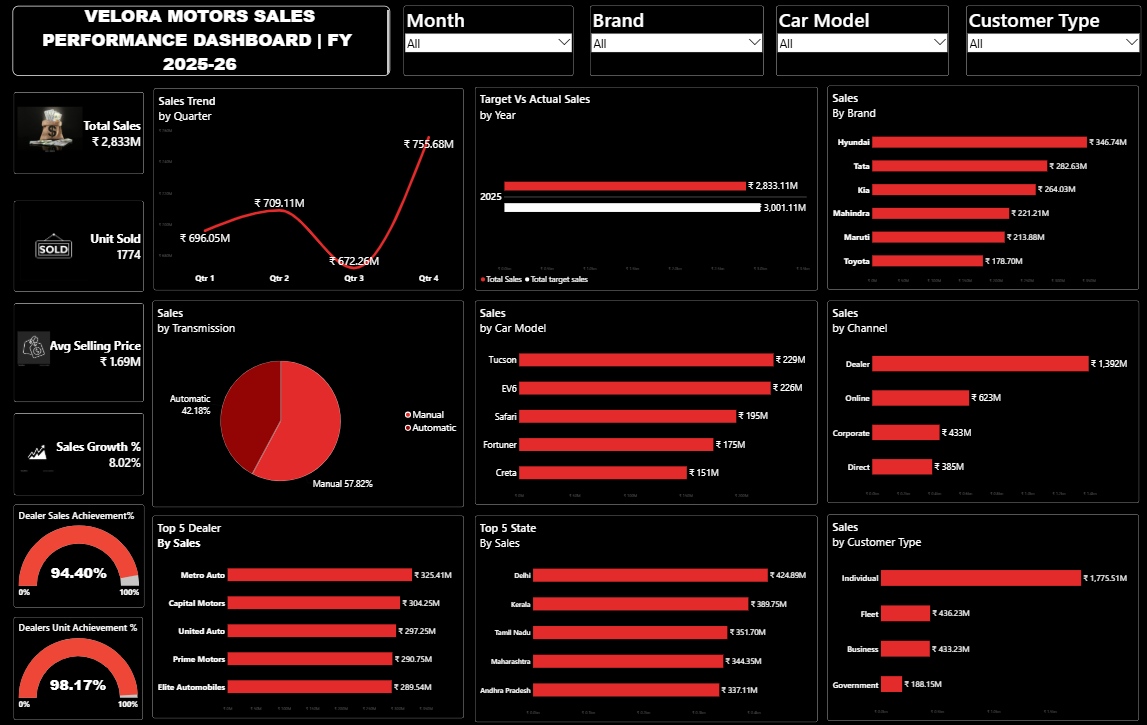

This screenshot's page, from the dashboard's own definition file:
{"tool":"powerbi","page":{"name":"Page 1","canvas":[4000,2580],"ordinal":0},"visuals":[{"type":"textbox","box":[61.5,29,1306.6,242.5],"z":0},{"type":"slicer","fields":{"Values":["Sales_Data.Brand"]},"box":[2059.4,29,600.8,242.5],"z":1000},{"type":"slicer","fields":{"Values":["Sales_Data.Car Model"]},"box":[2703.6,29,597.2,242.5],"z":2000},{"type":"cardVisual","fields":{"Data":["Sales_Data.Total Sales"]},"box":[63.1,329.1,450.9,284],"z":2500,"group":"g2"},{"type":"cardVisual","fields":{"Data":["Sales_Data.Unit Sold"]},"box":[63.1,703.3,450.9,315.6],"z":2500,"group":"g1"},{"type":"cardVisual","fields":{"Data":["Sales_Data.Avg Selling price"]},"box":[63.1,1059.5,450.9,342.7],"z":2500,"group":"g3"},{"type":"cardVisual","fields":{"Data":["Sales_Data.Sales Growth %"]},"box":[63.1,1438.3,450.9,284],"z":2500,"group":"g4"},{"type":"slicer","fields":{"Values":["Sales_Data.Customer Type"]},"box":[3358.7,29,604.4,242.5],"z":3000},{"type":"group","id":"g1","title":"Group 1","box":[63.1,703.3,450.9,315.6],"z":4000},{"type":"group","id":"g2","title":"Group 2","box":[63.1,315.6,450.9,297.6],"z":5000},{"type":"image","box":[84.2,719.1,233.4,285.3],"z":6000,"group":"g1"},{"type":"group","id":"g3","title":"Group 2","box":[63.1,1059.5,450.9,342.7],"z":6000},{"type":"image","box":[75.5,315.6,224.8,285.3],"z":6502,"group":"g2"},{"type":"image","box":[75.5,1152.3,112.4,134],"z":6502,"group":"g3"},{"type":"group","id":"g4","title":"Group 2","box":[63.1,1438.3,450.9,284],"z":7000},{"type":"slicer","fields":{"Values":["Calendar.Date.Variation.Date Hierarchy.Month"]},"box":[1415.2,29,586.3,242.5],"z":8000},{"type":"clusteredBarChart","title":" Sales","fields":{"Category":["Sales_Data.Customer Type"],"Y":["Sales_Data.Total Sales"]},"box":[2879.2,1789.8,1076.4,713.3],"z":9000},{"type":"clusteredBarChart","title":" Sales","fields":{"Category":["Sales_Data.Channel"],"Y":["Sales_Data.Total Sales"]},"box":[2881,1050.5,1077.6,698.8],"z":10000},{"type":"lineChart","title":"Sales Trend","fields":{"Category":["Calendar.Date.Variation.Date Hierarchy.Quarter"],"Y":["Sales_Data.Total Sales"]},"box":[550.1,314.9,1071.3,698.5],"z":11000},{"type":"clusteredBarChart","title":"Top 5 Dealer","fields":{"Category":["Sales_Data.Dealer"],"Y":["Sales_Data.Total Sales"]},"box":[544.7,1794.1,1076.4,700.3],"z":12000},{"type":"clusteredBarChart","title":" Sales","fields":{"Category":["Sales_Data.Car Model"],"Y":["Sales_Data.Total Sales"]},"box":[1660.1,1050.5,1184.5,704.7],"z":13000},{"type":"gauge","fields":{"Y":["Dealer_Target.Dealer Sales Achievement%"]},"box":[63.1,1753.9,450.9,356.2],"z":14000},{"type":"image","box":[86.9,1494.8,119.4,166.5],"z":15000},{"type":"barChart","title":"Top 5 State","fields":{"Category":["Sales_Data.State"],"Y":["Sales_Data.Total Sales"]},"box":[1660.1,1794.1,1184.5,713.3],"z":16000},{"type":"clusteredBarChart","title":"Target Vs Actual Sales","fields":{"Category":["Calendar.Date.Variation.Date Hierarchy.Year","Calendar.Date.Variation.Date Hierarchy.Quarter","Calendar.Date.Variation.Date Hierarchy.Month"],"Y":["Sales_Data.Total Sales","Dealer_Target.Total target sales"]},"box":[1659.2,311.1,1185.8,703.3],"z":17000},{"type":"gauge","fields":{"Y":["Sales_Data.Dealers Unit Achievement %"]},"box":[63.1,2146.1,446.4,356.2],"z":18000},{"type":"pieChart","title":"Sales","fields":{"Category":["Sales_Data.Transmission"],"Y":["Sales_Data.Total Sales"]},"box":[544.7,1050.5,1076.4,713.3],"z":19000},{"type":"clusteredBarChart","title":"Sales","fields":{"Category":["Sales_Data.Brand"],"Y":["Sales_Data.Total Sales"]},"box":[2879.2,306.9,1076.4,704.7],"z":20000}]}

Visuals, with their boxes in screenshot pixels (x1, y1, x2, y2), scaled from the page's 4000x2580 canvas onto the 1147x725 screenshot:
textbox: x1=18, y1=8, x2=392, y2=76
slicer - Sales_Data.Brand: x1=591, y1=8, x2=763, y2=76
slicer - Sales_Data.Car Model: x1=775, y1=8, x2=947, y2=76
cardVisual - Sales_Data.Total Sales: x1=18, y1=92, x2=147, y2=172
cardVisual - Sales_Data.Unit Sold: x1=18, y1=198, x2=147, y2=286
cardVisual - Sales_Data.Avg Selling price: x1=18, y1=298, x2=147, y2=394
cardVisual - Sales_Data.Sales Growth %: x1=18, y1=404, x2=147, y2=484
slicer - Sales_Data.Customer Type: x1=963, y1=8, x2=1136, y2=76
"Group 1" group: x1=18, y1=198, x2=147, y2=286
"Group 2" group: x1=18, y1=89, x2=147, y2=172
image: x1=24, y1=202, x2=91, y2=282
"Group 2" group: x1=18, y1=298, x2=147, y2=394
image: x1=22, y1=89, x2=86, y2=169
image: x1=22, y1=324, x2=54, y2=361
"Group 2" group: x1=18, y1=404, x2=147, y2=484
slicer - Calendar.Date.Variation.Date Hierarchy.Month: x1=406, y1=8, x2=574, y2=76
" Sales" clusteredBarChart: x1=826, y1=503, x2=1134, y2=703
" Sales" clusteredBarChart: x1=826, y1=295, x2=1135, y2=492
"Sales Trend" lineChart: x1=158, y1=88, x2=465, y2=285
"Top 5 Dealer" clusteredBarChart: x1=156, y1=504, x2=465, y2=701
" Sales" clusteredBarChart: x1=476, y1=295, x2=816, y2=493
gauge - Dealer_Target.Dealer Sales Achievement%: x1=18, y1=493, x2=147, y2=593
image: x1=25, y1=420, x2=59, y2=467
"Top 5 State" barChart: x1=476, y1=504, x2=816, y2=705
"Target Vs Actual Sales" clusteredBarChart: x1=476, y1=87, x2=816, y2=285
gauge - Sales_Data.Dealers Unit Achievement %: x1=18, y1=603, x2=146, y2=703
"Sales" pieChart: x1=156, y1=295, x2=465, y2=496
"Sales" clusteredBarChart: x1=826, y1=86, x2=1134, y2=284
